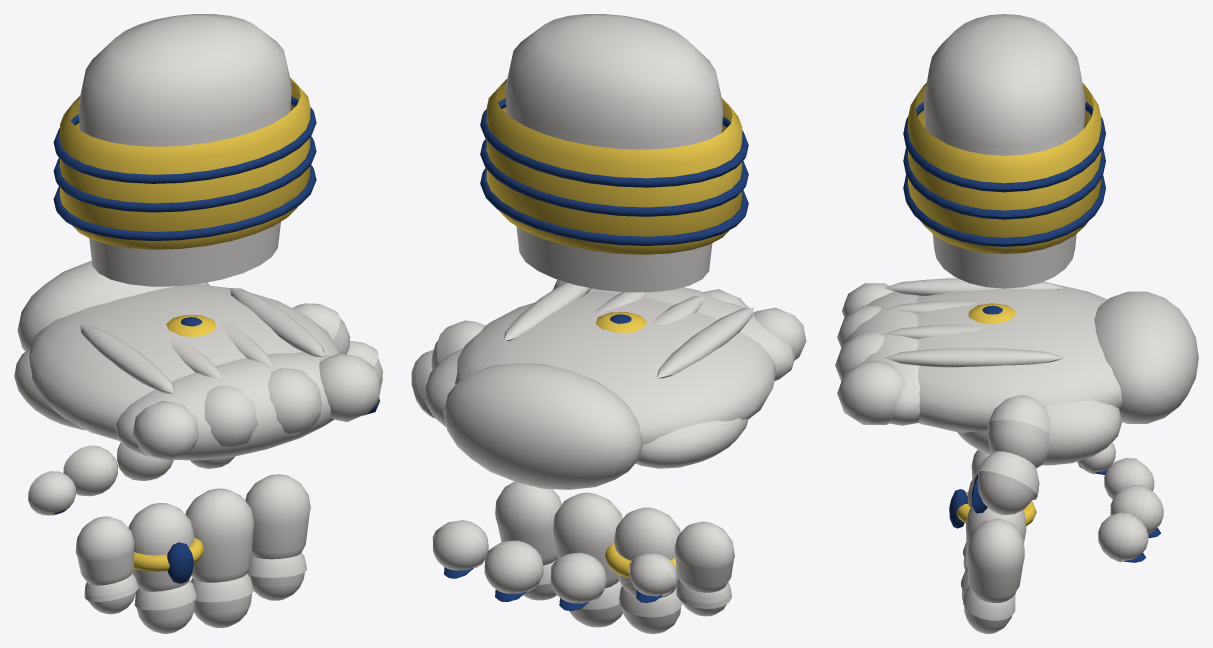
Rendered from Giza_Mano.fbx.
3 views of the same model, side by side, from view 1: azimuth 30°, elevation 25°; view 2: azimuth 150°, elevation 25°; view 3: azimuth 270°, elevation 25° (orthographic). The views are drawn at different scales.
Parts seen in each view (by area): view 1: Antebrazo, Palma, Dedo_Medio_1, Dedo_Anular_1, Dedo_Indice_1, Dedo_Menique_1, Dedo_Medio_2, Dedo_Anular_2, Dedo_Indice_2, Dedo_Anular_3, Dedo_Menique_3, Dedo_Menique_2 (+3 smaller); view 2: Antebrazo, Palma, Dedo_Medio_1, Dedo_Indice_1, Dedo_Menique_1, Dedo_Anular_1, Dedo_Medio_3, Dedo_Anular_3, Dedo_Indice_3, Dedo_Anular_2, Dedo_Menique_3, Dedo_Medio_2 (+4 smaller); view 3: Palma, Antebrazo, Dedo_Indice_1, Pulgar_2, Pulgar_1, Dedo_Indice_3, Dedo_Medio_3, Dedo_Indice_2, Dedo_Anular_3, Dedo_Anular_1, Dedo_Medio_1, Dedo_Menique_3.
Part boxes in pixels (<box>): Antebrazo: <box>53,14,316,286</box>; Palma: <box>14,261,381,460</box>; Dedo_Medio_1: <box>185,488,254,582</box>; Dedo_Anular_1: <box>128,503,203,591</box>; Dedo_Indice_1: <box>245,474,310,559</box>; Dedo_Menique_1: <box>75,516,134,585</box>; Dedo_Medio_2: <box>191,573,253,627</box>; Dedo_Anular_2: <box>134,580,196,633</box>; Dedo_Indice_2: <box>247,552,306,600</box>; Dedo_Anular_3: <box>63,445,118,496</box>; Dedo_Menique_3: <box>28,471,75,515</box>; Dedo_Menique_2: <box>84,573,138,614</box>; Antebrazo: <box>480,14,748,292</box>; Palma: <box>424,279,806,489</box>; Dedo_Medio_1: <box>553,492,622,588</box>; Dedo_Indice_1: <box>495,481,561,565</box>; Dedo_Menique_1: <box>674,521,734,592</box>; Dedo_Anular_1: <box>605,507,680,597</box>; Dedo_Medio_3: <box>484,540,543,601</box>; Dedo_Anular_3: <box>550,552,606,610</box>; Dedo_Indice_3: <box>432,520,488,578</box>; Dedo_Anular_2: <box>619,586,682,633</box>; Dedo_Menique_3: <box>628,553,677,602</box>; Dedo_Medio_2: <box>569,580,622,627</box>; Palma: <box>835,278,1198,465</box>; Antebrazo: <box>903,14,1105,288</box>; Dedo_Indice_1: <box>967,518,1024,602</box>; Pulgar_2: <box>971,451,1039,515</box>; Pulgar_1: <box>986,395,1050,468</box>; Dedo_Indice_3: <box>1098,512,1148,562</box>; Dedo_Medio_3: <box>1110,485,1163,538</box>; Dedo_Indice_2: <box>963,586,1015,633</box>; Dedo_Anular_3: <box>1104,458,1154,499</box>; Dedo_Anular_1: <box>949,476,1036,528</box>; Dedo_Medio_1: <box>966,506,1026,567</box>; Dedo_Menique_3: <box>1077,442,1115,474</box>.
Size of the model in its own units: 0.6049 by 1.05 by 0.6031.
